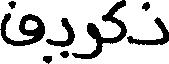X: (0, 0, 43, 63), (102, 0, 124, 51), (76, 18, 100, 63), (62, 13, 74, 62), (154, 12, 168, 49)
